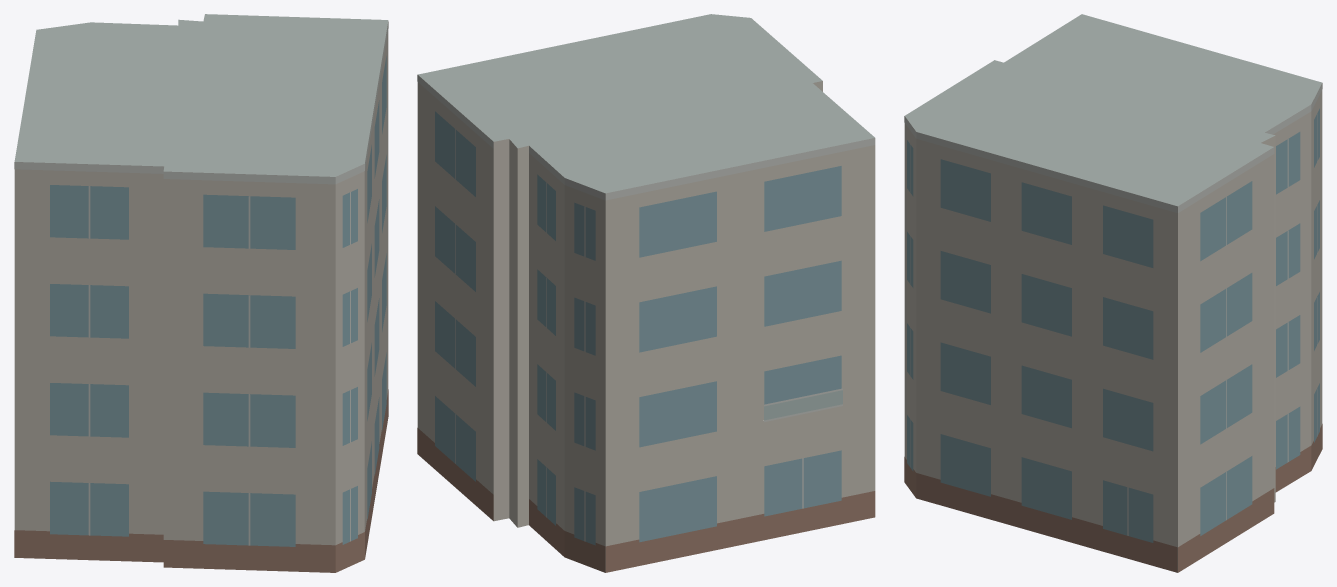
File: survey-upis-32516330.glb
3 renders of one model, left to right at view 1: azimuth 30°, elevation 25°; view 2: azimuth 150°, elevation 25°; view 3: azimuth 270°, elevation 25°, orthographic. The views are drawn at different scales.
Visible parts, largest first — view 1: survey-upis-32516330.tmp; view 2: survey-upis-32516330.tmp; view 3: survey-upis-32516330.tmp.
Boxes of the visible parts, x1,y1,x2,y2 form: survey-upis-32516330.tmp: (14, 14, 388, 572); survey-upis-32516330.tmp: (417, 14, 875, 572); survey-upis-32516330.tmp: (904, 14, 1322, 572).
Bounding box in the file's own units: 14.64 × 13 × 13.44.
